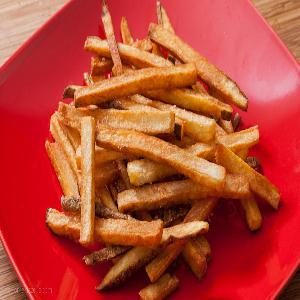fries: (39, 9, 281, 284)
